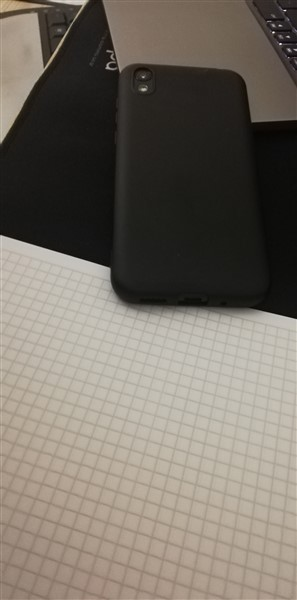telefon: (104, 61, 277, 318)
